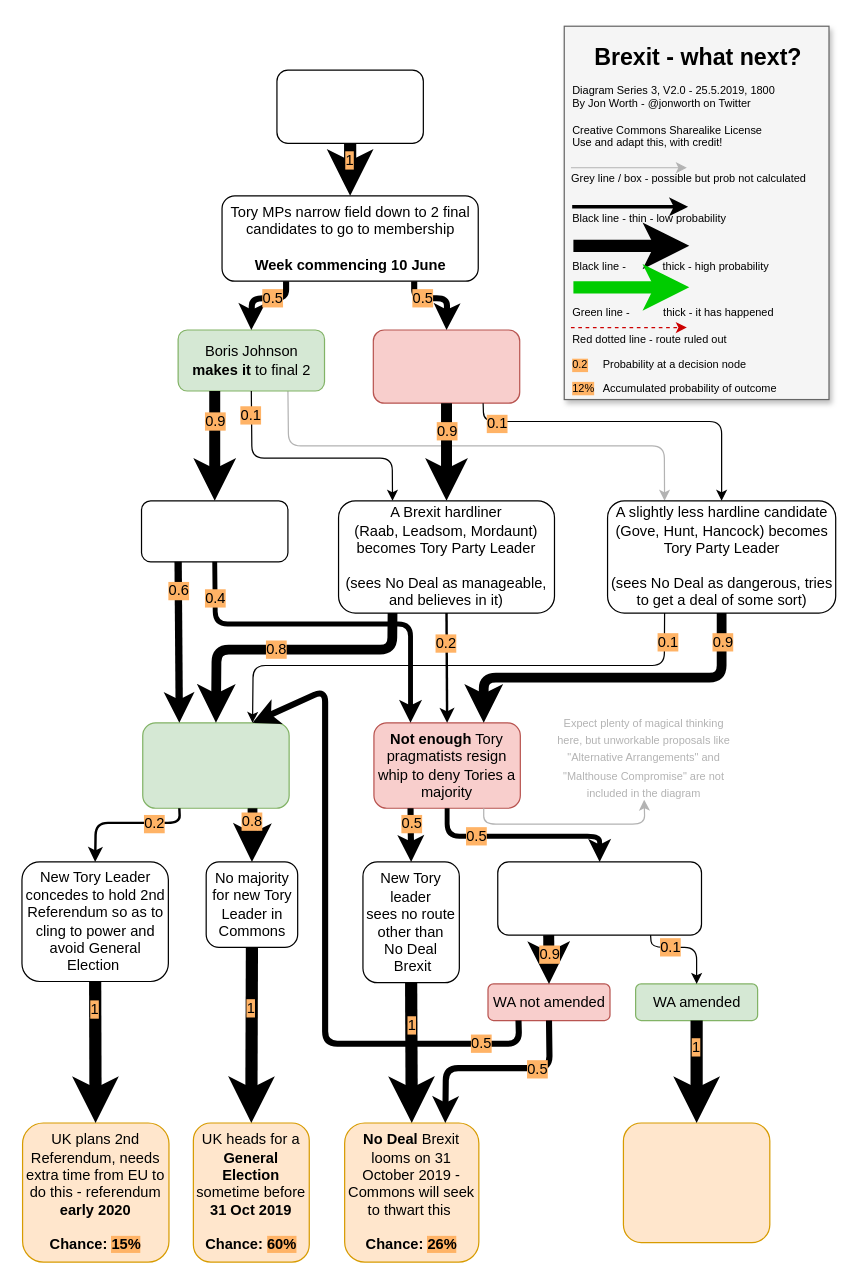
This 858x1283 diagram has some shape labels left out. The centre of each missing label's shape, as x and y in pixels:
"Boris Johnson doesn't make it to final 2" belongs at (446,366).
"Brexit with a Deal happens legally but possibly after 31 October 2019 Chance: 2%" belongs at (696,1182).
"Enough Tory pragmatists resign whip to deny Tories a majority" belongs at (215,765).
"Johnson becomes Tory Party Leader" belongs at (214,531).
"May speech 24 May saying she will resign 7 June" belongs at (349,106).
"New Tory leader - safe in office for now - goes to 🇪🇺to demand changes to WA" belongs at (599,898).
